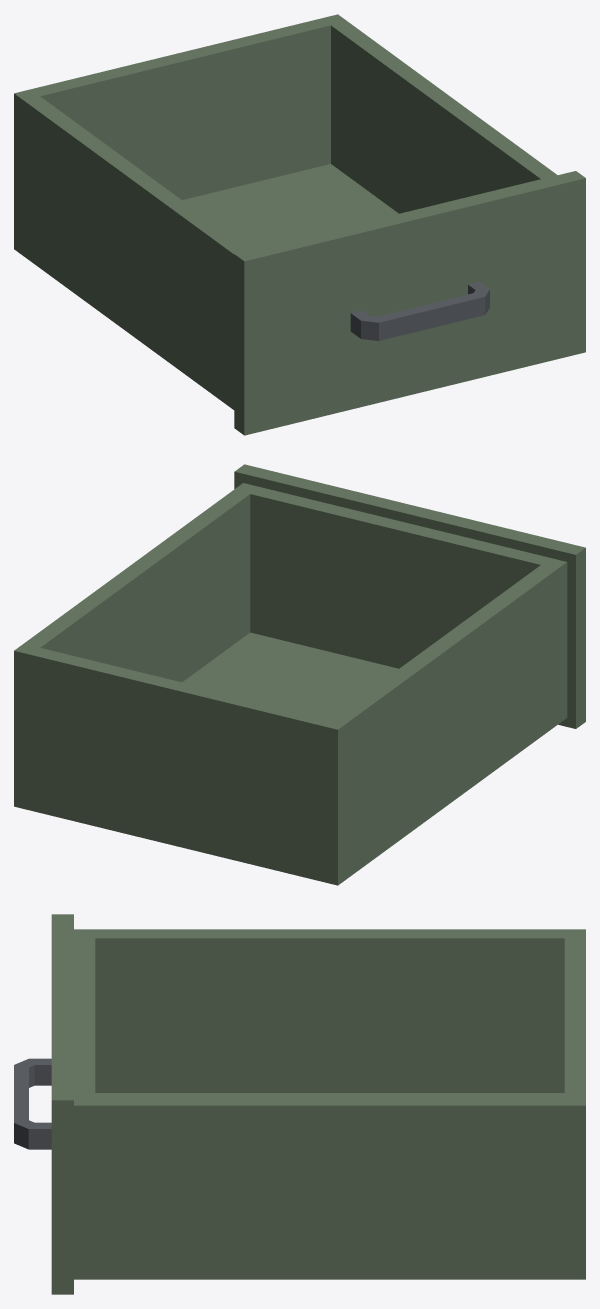
The model's file is SM_Prop_WorkBench_01_Drawer_02.fbx.
3 views of the same model, one above another, from view 1: azimuth 30°, elevation 25°; view 2: azimuth 150°, elevation 25°; view 3: azimuth 270°, elevation 25° (orthographic). The views are drawn at different scales.
Visible parts, largest first — view 1: SM_Prop_WorkBench_01_Drawer_02; view 2: SM_Prop_WorkBench_01_Drawer_02; view 3: SM_Prop_WorkBench_01_Drawer_02.
Part boxes in pixels (box(x1,y1,x2,y2)): SM_Prop_WorkBench_01_Drawer_02: box(14, 14, 585, 435); SM_Prop_WorkBench_01_Drawer_02: box(14, 464, 585, 885); SM_Prop_WorkBench_01_Drawer_02: box(14, 914, 585, 1294).
Size of the model in its own units: 61.62 by 30.03 by 80.04.
